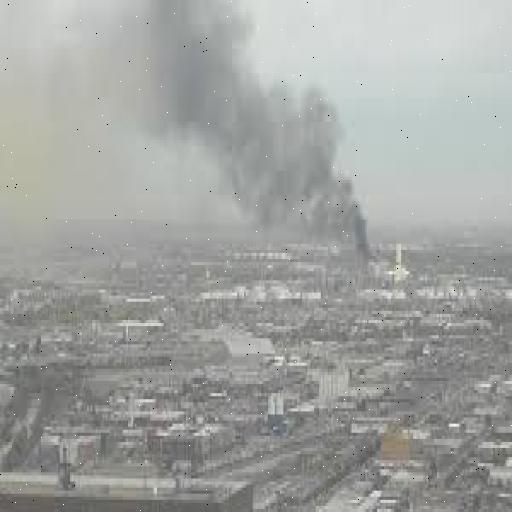smoke: (155, 6, 369, 238)
